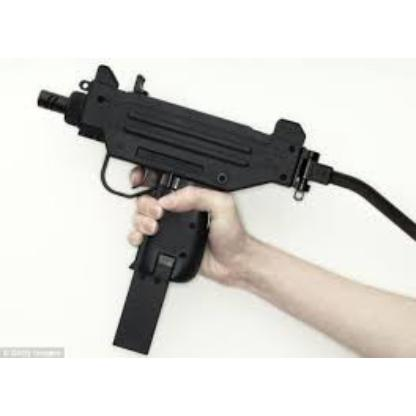gun: (33, 74, 315, 352)
